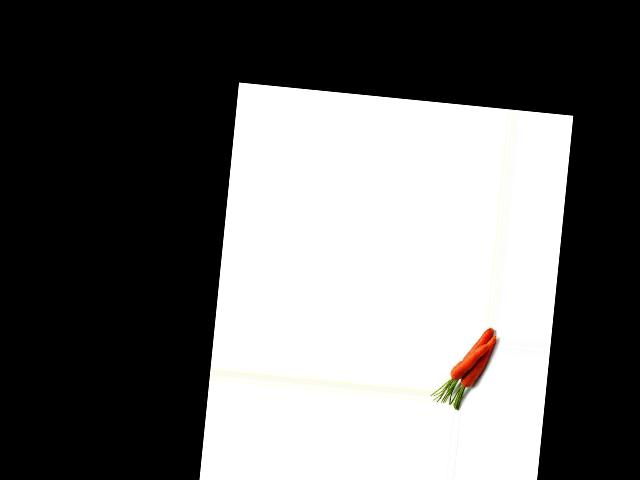carrot: (462, 326, 494, 364)
